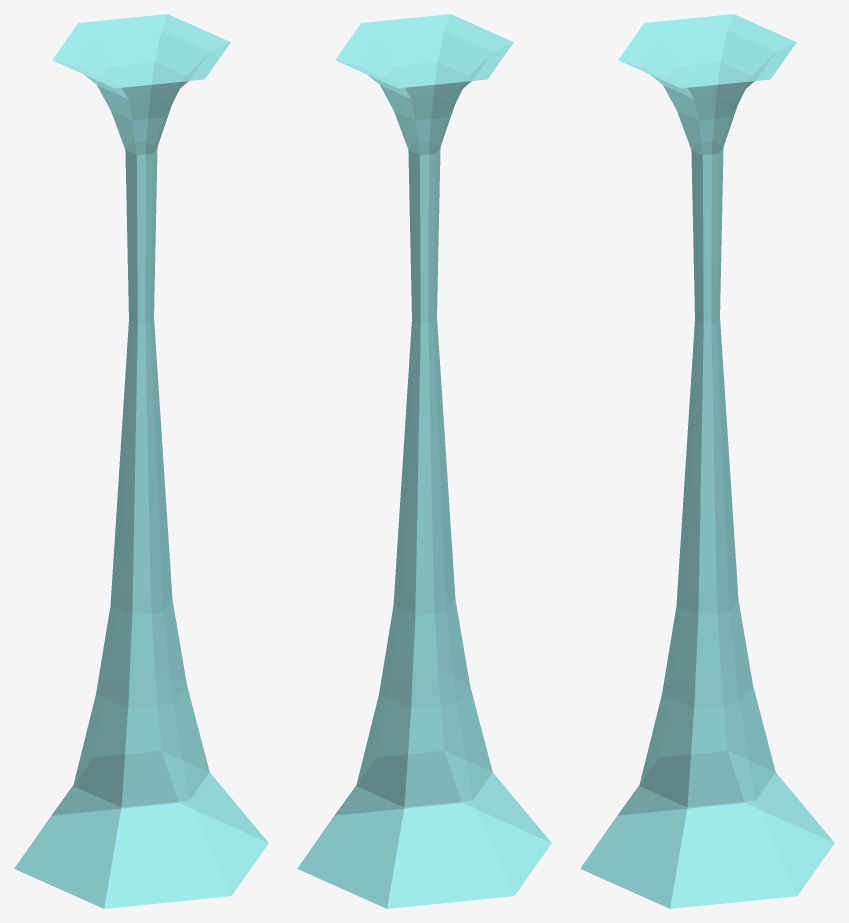
Rendered from Stalagtite_Ice_Joined_01.fbx.
3 views of the same model, side by side, from view 1: azimuth 30°, elevation 25°; view 2: azimuth 150°, elevation 25°; view 3: azimuth 270°, elevation 25° (orthographic).
Parts seen in each view (by area): view 1: Model; view 2: Model; view 3: Model.
Boxes of the visible parts, x1=… form: Model: x1=14, y1=14, x2=268, y2=908; Model: x1=297, y1=14, x2=551, y2=908; Model: x1=580, y1=14, x2=834, y2=908.
Size of the model in its own units: 201 by 710 by 204.
